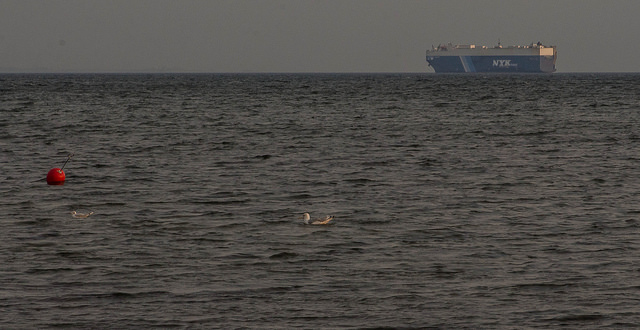PCC: (421, 35, 567, 77)
